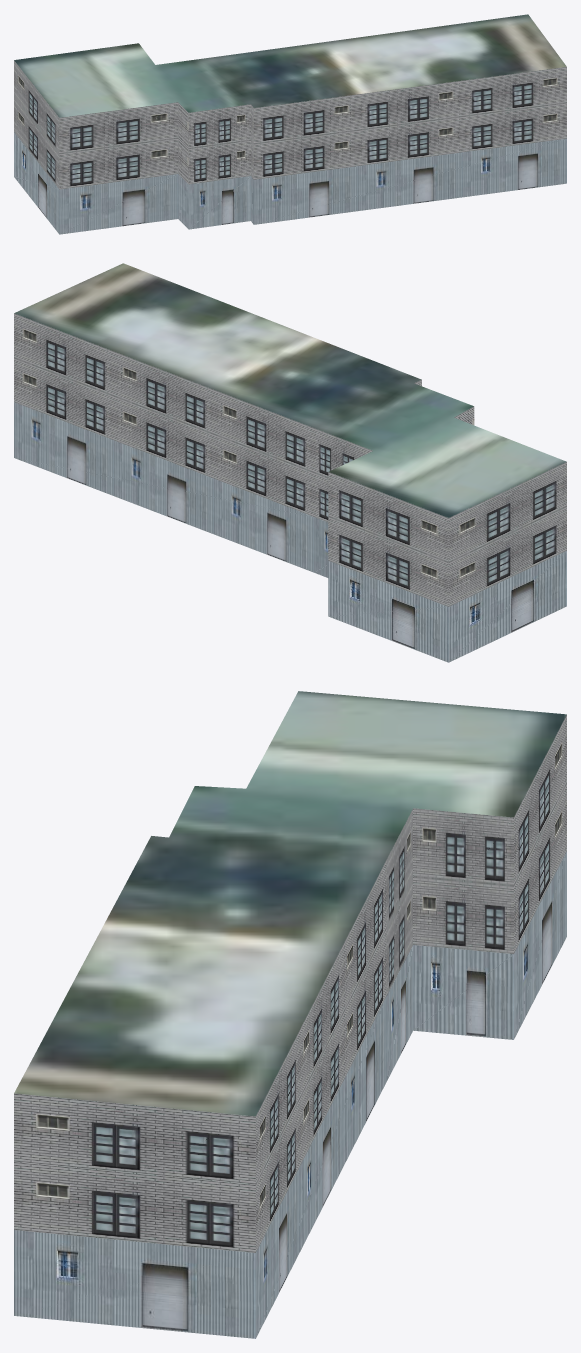
Rendered from T_1T8NH4PGNL.dae.
3 renders of one model, top to bottom at view 1: azimuth 30°, elevation 25°; view 2: azimuth 150°, elevation 25°; view 3: azimuth 270°, elevation 25°, orthographic. The views are drawn at different scales.
Visible parts, largest first — view 1: SketchUp (×3); view 2: SketchUp (×3); view 3: SketchUp (×3).
Part boxes in pixels (x1,y1,x2,y2): SketchUp (×3): (14,14,566,234); SketchUp (×3): (14,263,566,662); SketchUp (×3): (14,691,566,1338).
Size of the model in its own units: 1382 by 759 by 337.
3 materials, 3 textured.
